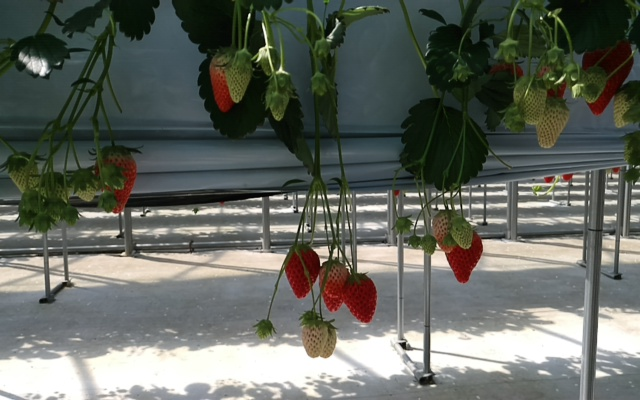GreenStrawberry: (529, 96, 572, 150), (512, 74, 548, 128), (5, 152, 45, 197), (223, 51, 254, 103), (35, 171, 68, 218), (613, 79, 640, 131), (264, 73, 291, 122), (574, 66, 607, 102), (301, 317, 329, 359), (432, 209, 457, 255), (71, 166, 97, 202), (449, 218, 474, 251), (318, 322, 337, 359), (620, 132, 640, 165)
MatureStrawberry: (576, 32, 635, 117), (92, 146, 139, 216), (444, 226, 485, 283), (282, 244, 320, 300), (208, 46, 239, 114), (340, 272, 378, 325), (318, 259, 350, 313)
